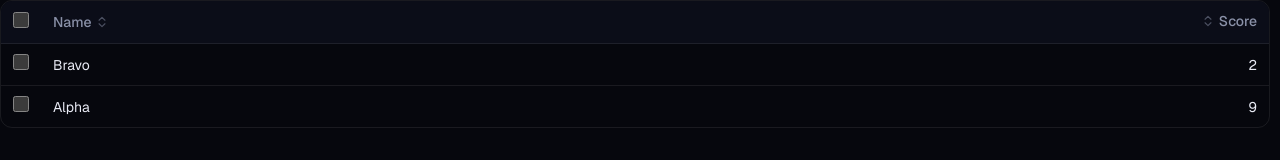
Scenario: DataTable › selects every row via the header checkbox
What coordinates should you click on to do the following:
click the checkbox named "Select all rows"
I would click on:
 (21, 20)
Its box is top-left (13, 12), bottom-right (29, 28).
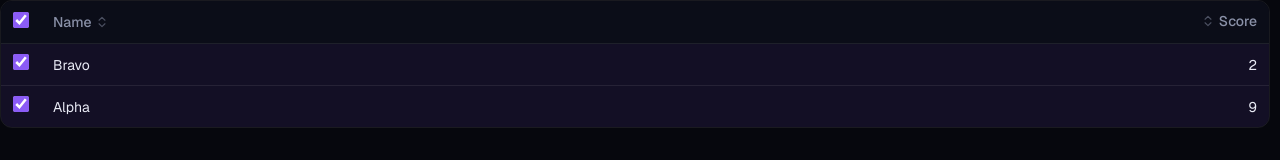
Expected: the checkbox named "Select row Alpha" is checked, top-left (13, 96), bottom-right (29, 112)
Expected: the checkbox named "Select row Bravo" is checked, top-left (13, 54), bottom-right (29, 70)
